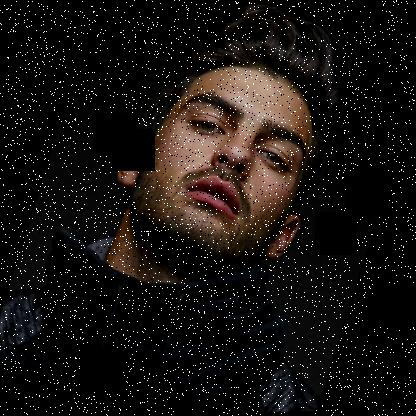Male: (99, 38, 339, 286)
